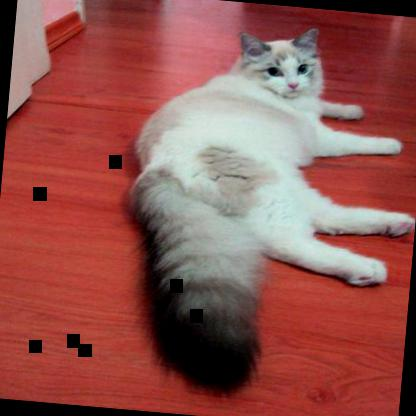cat: (112, 12, 415, 409)
